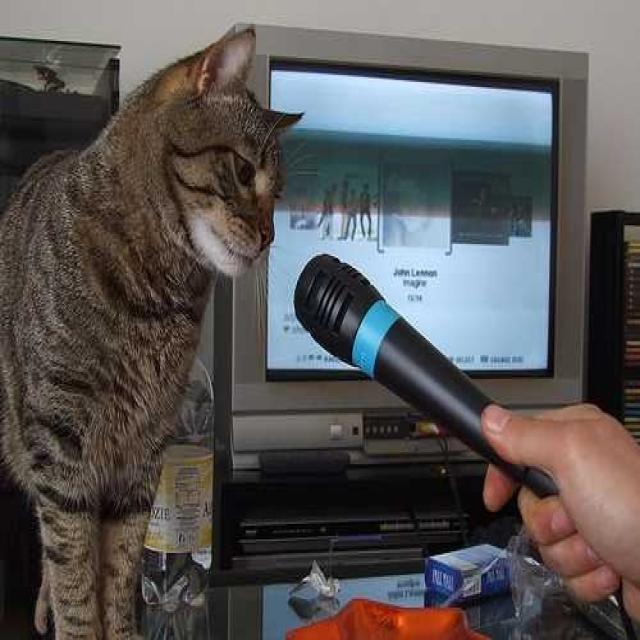microphone: (297, 251, 556, 506)
